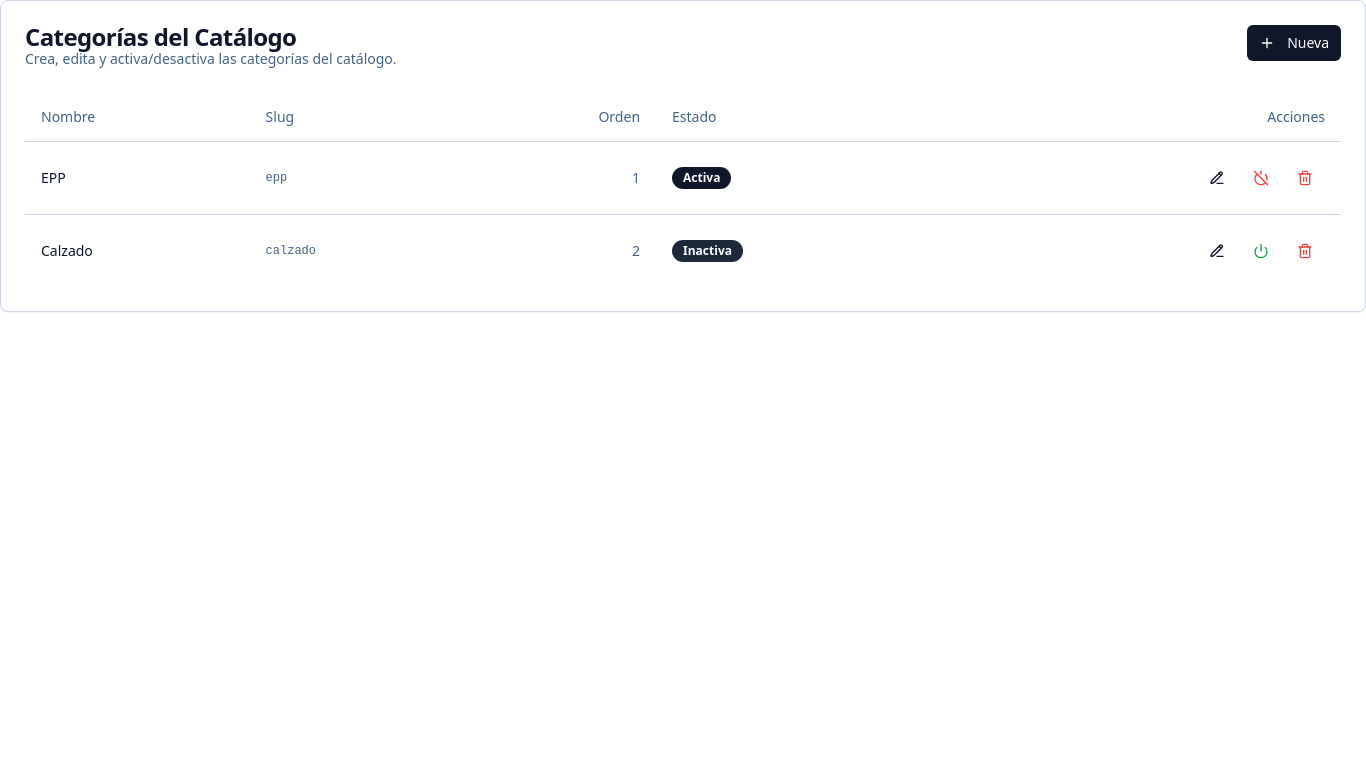
Test: CategoryManager — persistence (HU-2.3) › opens edit dialog prefilled with category data
expect the text "EPP" is shown: met, box [25,141,250,214]
Click the button named "editar epp".
click(1217, 178)  # box [1197,158,1237,198]
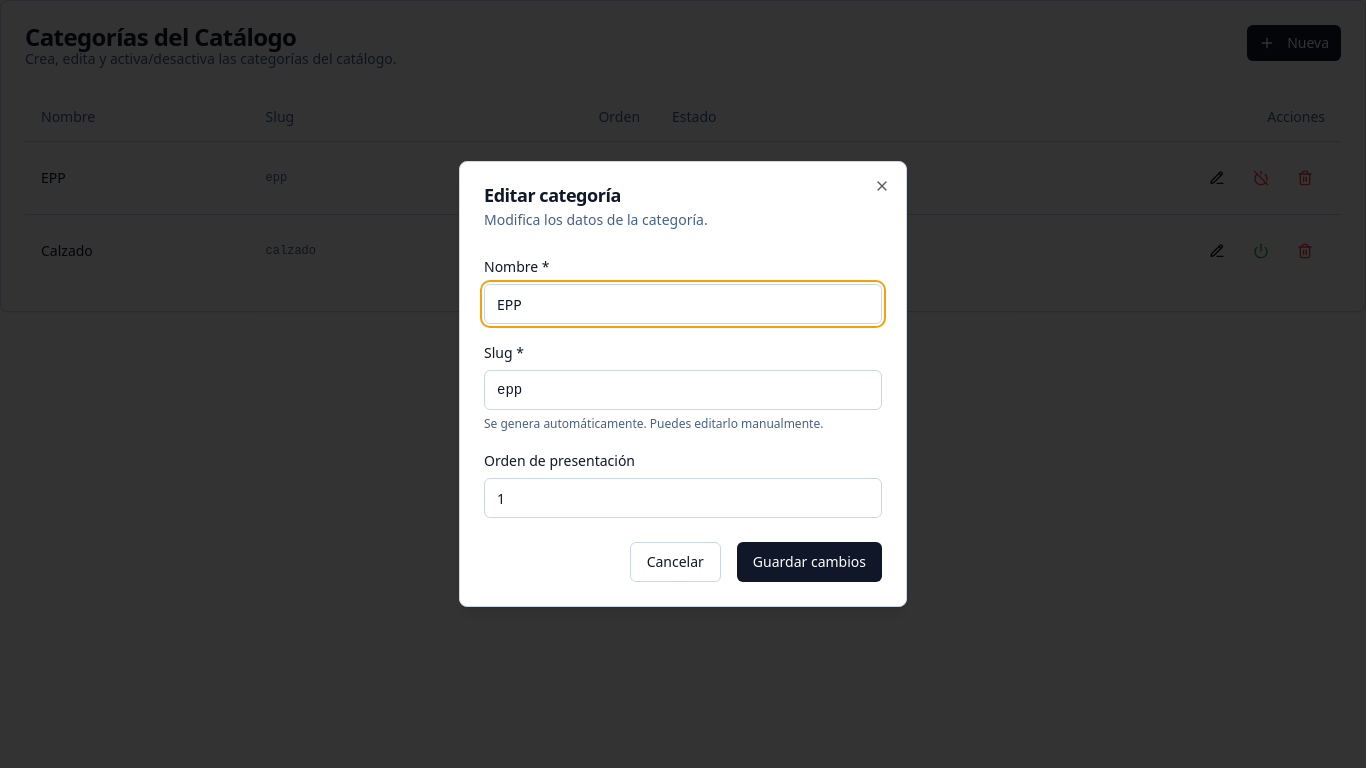
expect the field labelled "Nombre *" holds "EPP": met, box [484,284,882,324]
expect the field labelled "Slug *" holds "epp": met, box [484,370,882,410]
